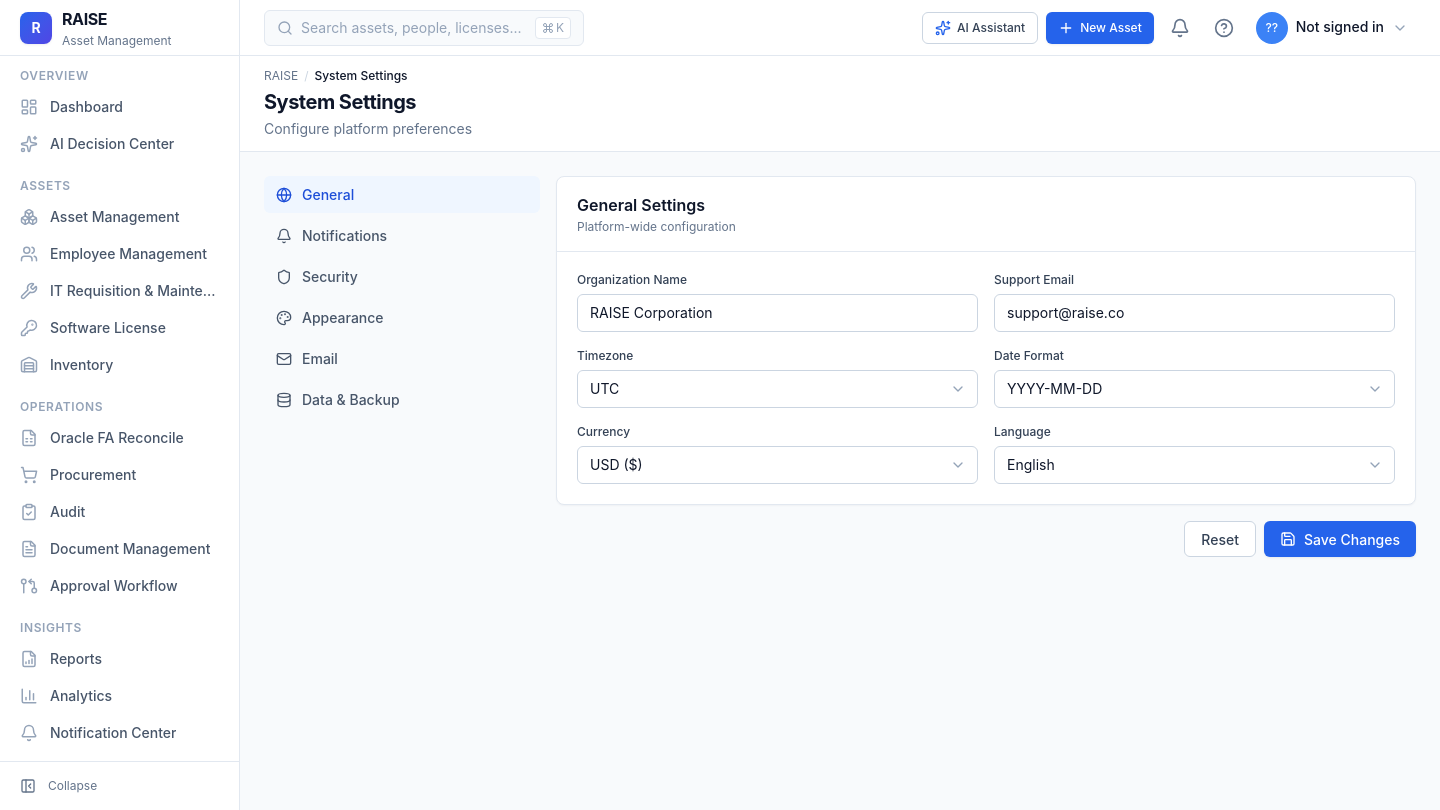
Scenario: SettingsPage › switches to the Notifications section and shows the seeded toggle state
The width and height of the screenshot is (1440, 810).
Expected: the field showing "RAISE Corporation" below "Organization Name" is shown, left=577, top=294, right=978, bottom=332
Click the button "Notifications" at {"x": 345, "y": 236}, box left=264, top=217, right=540, bottom=254
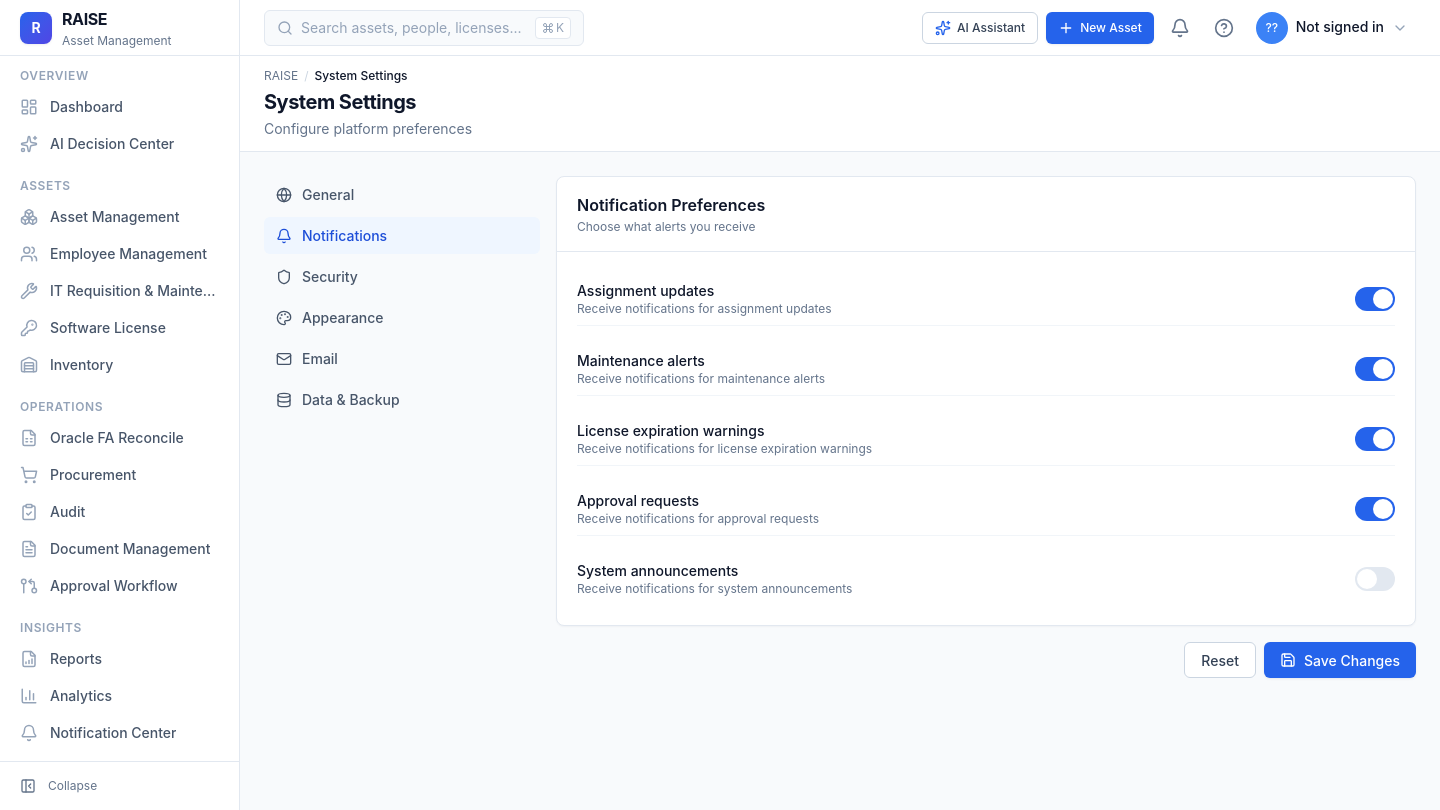
Expected: the text "Assignment updates" is shown, left=577, top=282, right=714, bottom=299
